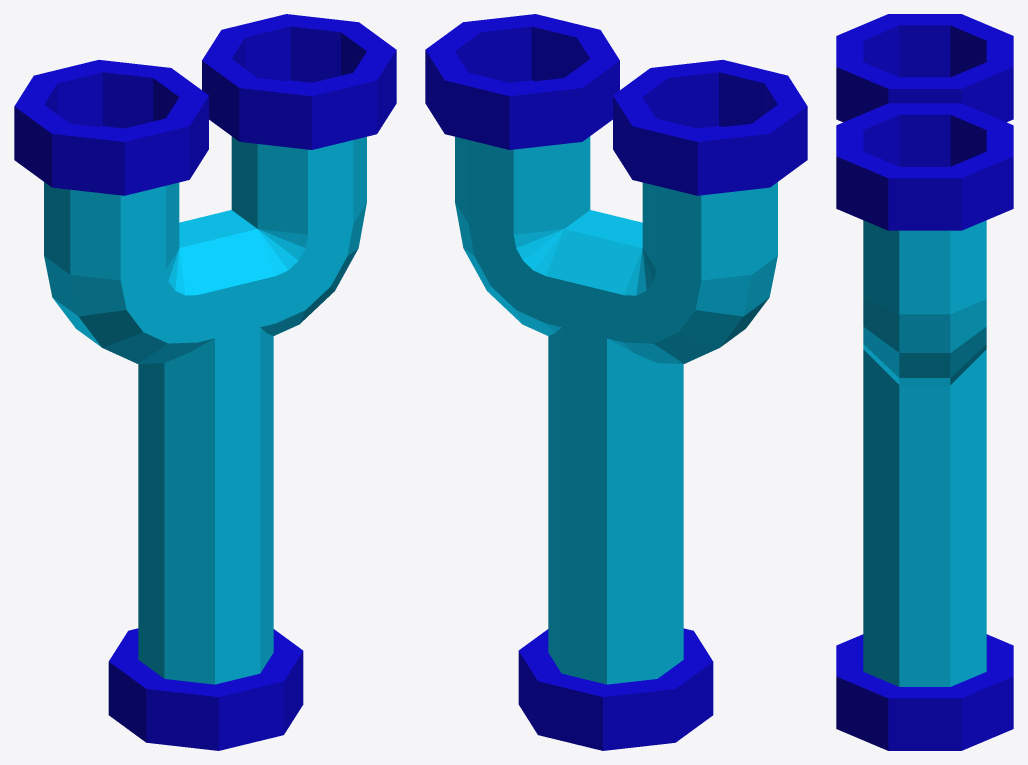
The model's file is pipes 7.0.fbx.
3 renders of one model, left to right at view 1: azimuth 30°, elevation 25°; view 2: azimuth 150°, elevation 25°; view 3: azimuth 270°, elevation 25°, orthographic. The views are drawn at different scales.
Visible parts, largest first — view 1: pipe 9; view 2: pipe 9; view 3: pipe 9.
Boxes of the visible parts, x1,y1,x2,y2 form: pipe 9: (14, 14, 396, 750); pipe 9: (425, 14, 807, 750); pipe 9: (836, 14, 1013, 750).
Bounding box in the file's own units: 75.17 × 132 × 34.27.
